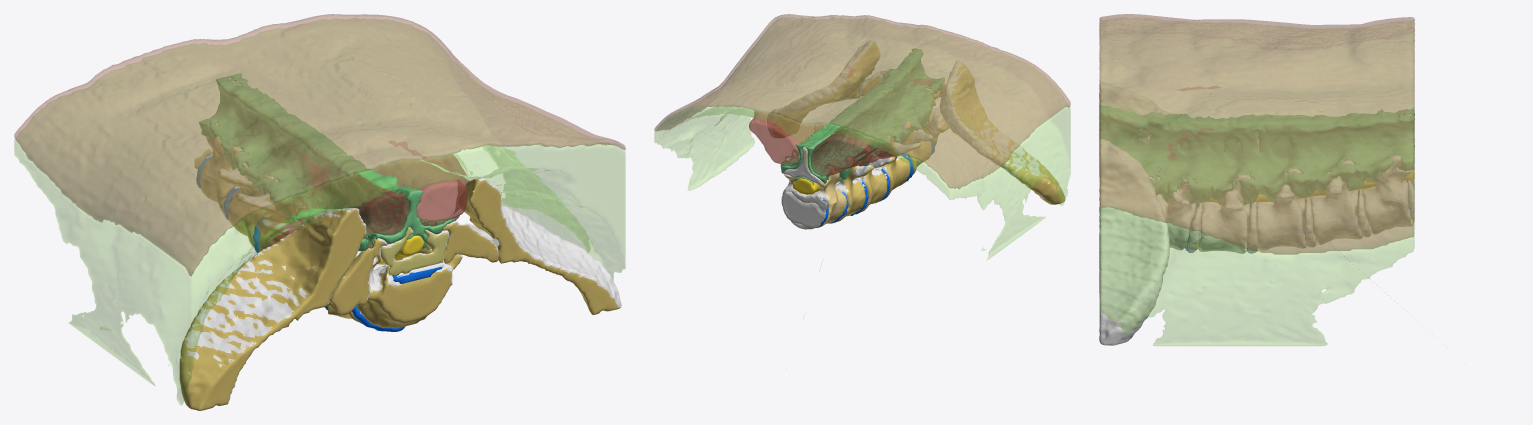
The model's file is CTcomplete.fbx.
3 renders of one model, left to right at view 1: azimuth 30°, elevation 25°; view 2: azimuth 150°, elevation 25°; view 3: azimuth 270°, elevation 25°, orthographic. The views are drawn at different scales.
Parts seen in each view (by area): view 1: subcutaneous_fat, SkinThin, Ligaments, left hip, CompleteVertHipDiscSupportScaled, left deep back muscle, right deep back muscle, right hip, L5 vertebra, Sacrum, S1 vertebra, L1 vertebra (+3 smaller); view 2: subcutaneous_fat, SkinThin, Ligaments, CompleteVertHipDiscSupportScaled, left hip, left deep back muscle, right deep back muscle, right hip, T12 vertebra, L1 vertebra, L3 vertebra, L2 vertebra (+2 smaller); view 3: subcutaneous_fat, SkinThin, CompleteVertHipDiscSupportScaled, Ligaments.
Boxes of the visible parts, x1,y1,x2,y2 form: subcutaneous_fat: [14, 18, 625, 405]; SkinThin: [14, 14, 625, 276]; Ligaments: [168, 73, 454, 365]; left hip: [179, 209, 365, 410]; CompleteVertHipDiscSupportScaled: [180, 78, 621, 400]; left deep back muscle: [245, 153, 409, 242]; right deep back muscle: [371, 141, 468, 226]; right hip: [458, 179, 619, 314]; L5 vertebra: [356, 224, 461, 328]; Sacrum: [328, 222, 497, 315]; S1 vertebra: [372, 227, 448, 276]; L1 vertebra: [218, 148, 269, 246]; subcutaneous_fat: [654, 17, 1070, 259]; SkinThin: [654, 14, 1070, 189]; Ligaments: [780, 48, 944, 185]; CompleteVertHipDiscSupportScaled: [767, 40, 1049, 228]; left hip: [950, 63, 1065, 204]; left deep back muscle: [811, 78, 935, 176]; right deep back muscle: [749, 69, 853, 166]; right hip: [772, 41, 880, 137]; T12 vertebra: [786, 158, 846, 229]; L1 vertebra: [830, 158, 873, 223]; L3 vertebra: [883, 138, 921, 199]; L2 vertebra: [860, 148, 895, 212]; subcutaneous_fat: [1099, 18, 1414, 345]; SkinThin: [1099, 14, 1414, 254]; CompleteVertHipDiscSupportScaled: [1099, 82, 1414, 345]; Ligaments: [1099, 105, 1450, 350].
Bounding box in the file's own units: 30.46 × 26.17 × 28.67.
